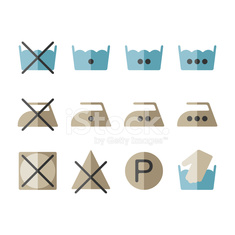do_not_iron: (17, 97, 58, 131)
do_not_wash: (17, 40, 58, 73)
